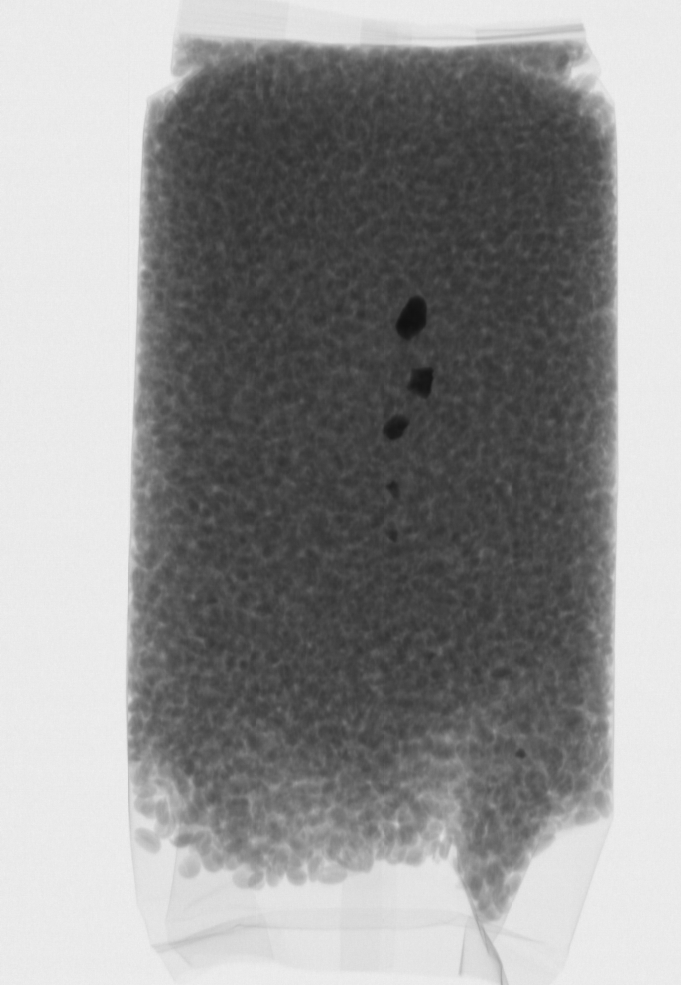stone: (393, 289, 434, 346), (377, 413, 413, 445), (408, 365, 438, 397), (387, 475, 408, 499), (384, 524, 403, 542)
stone_area: (359, 266, 447, 562)
